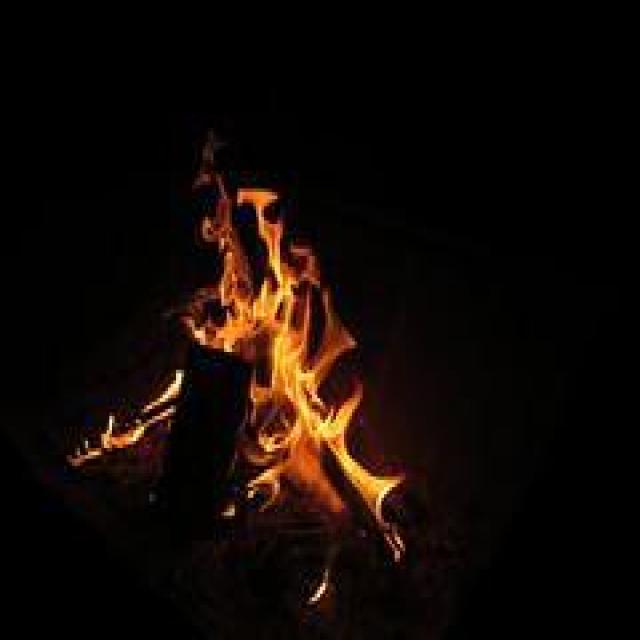fire: (64, 119, 436, 594)
